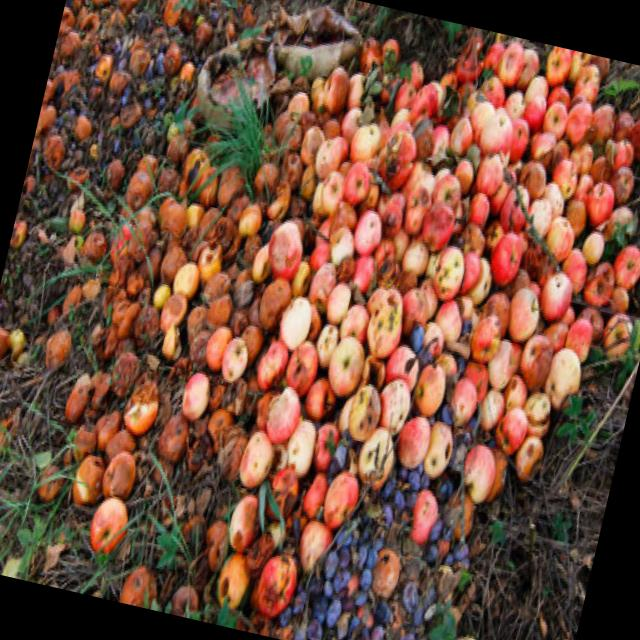paper: (359, 276, 414, 370), (352, 412, 408, 498), (462, 102, 517, 170), (254, 216, 307, 284), (98, 453, 146, 518), (232, 425, 278, 483), (85, 496, 143, 540)
